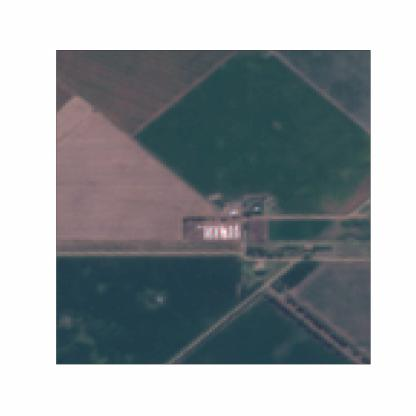silobolsa: (219, 224, 227, 239), (202, 225, 210, 240), (210, 225, 218, 240), (227, 224, 234, 240), (235, 223, 240, 239)
